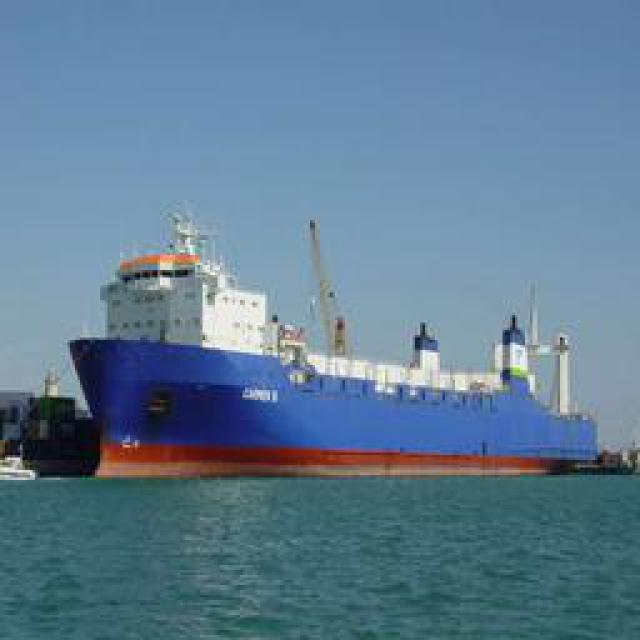Ship: (53, 206, 606, 488)
